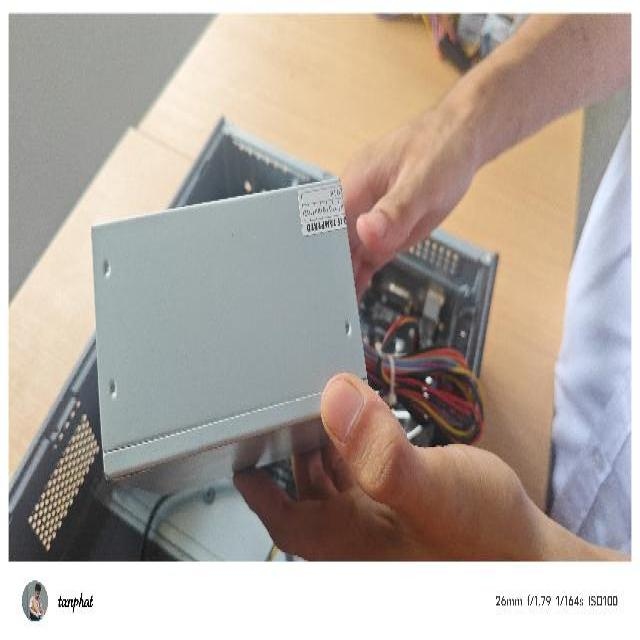PSU: (88, 174, 440, 496)
